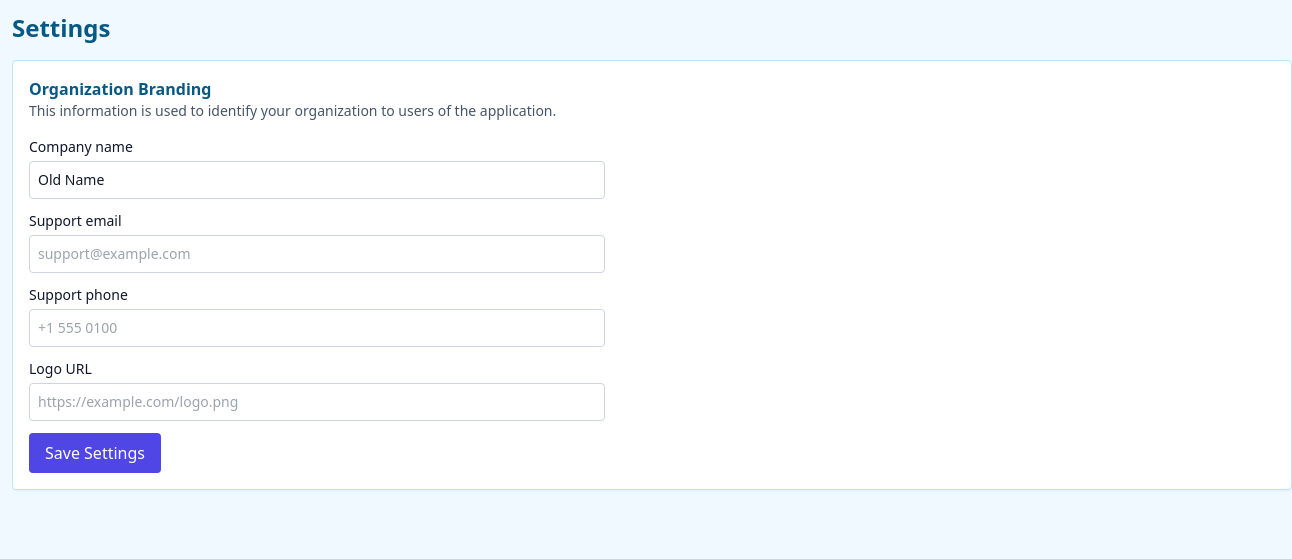
Test: SettingsPage organization branding › shows an error message when saving fails
The width and height of the screenshot is (1292, 559).
Expected: the field showing "Old Name" is shown, [29,161,605,199]
Click the button "Save Settings": (95, 453) [29,433,161,473]
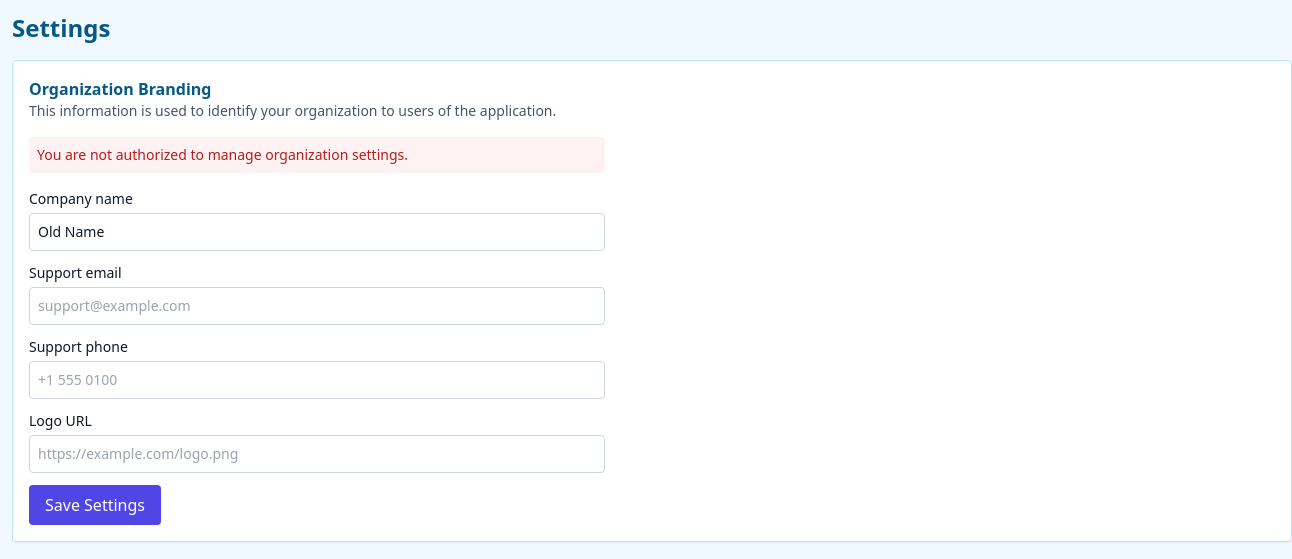
Expected: the text "You are not authorized to manage organization settings." is shown, [29,137,605,173]
